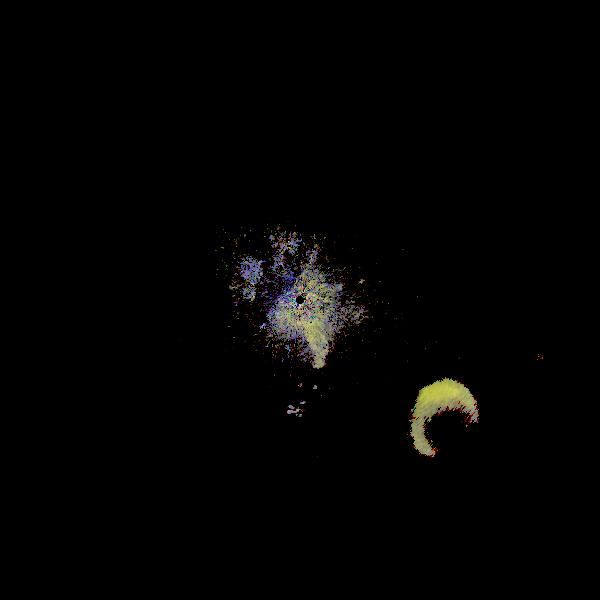roost: (396, 366, 528, 498), (491, 341, 590, 440), (243, 306, 339, 402)
